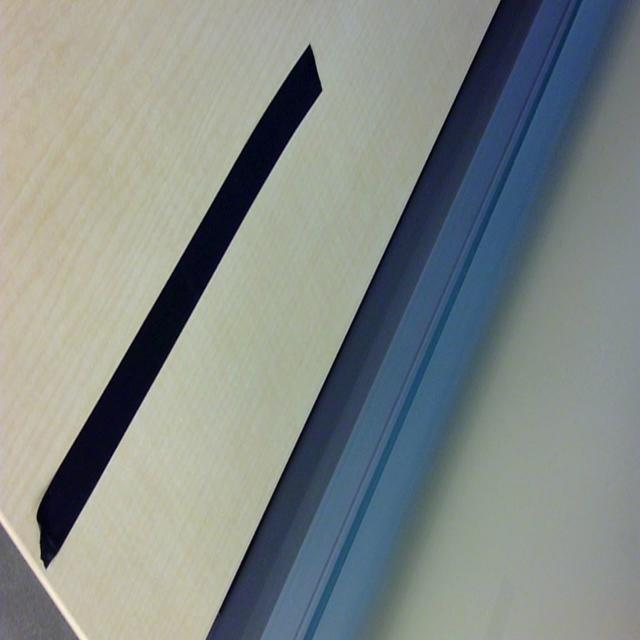tape: (36, 42, 322, 569)
